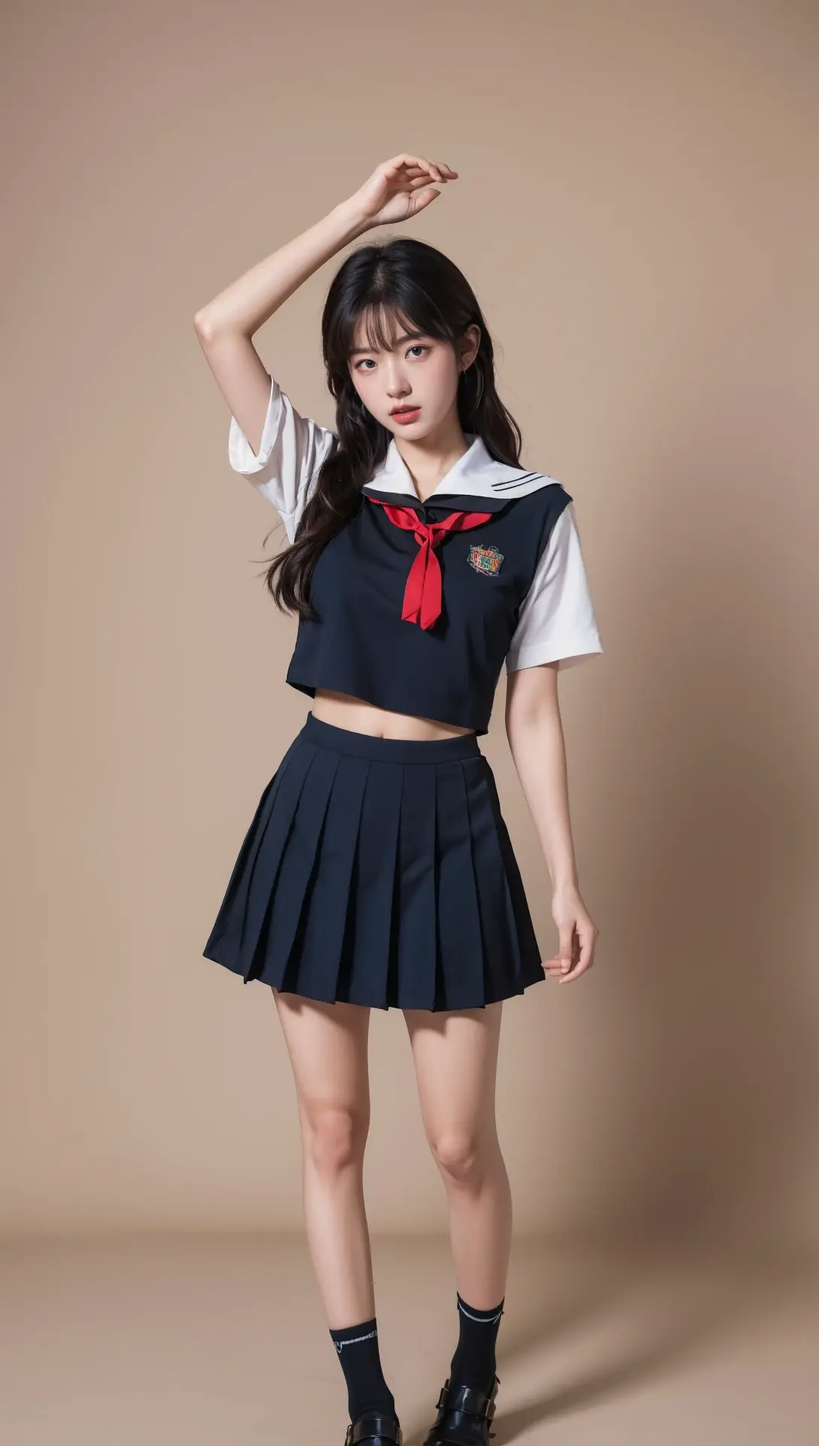up: (171, 133, 594, 1433)
